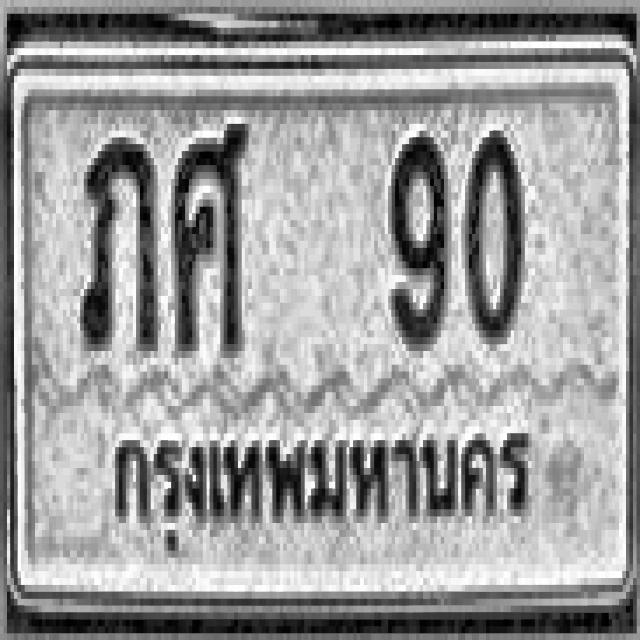license-plate: (10, 57, 632, 604)
